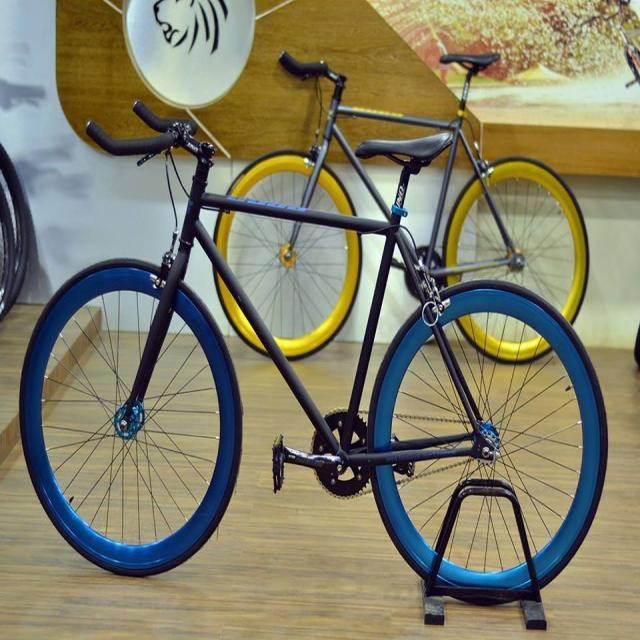Bicycle: (14, 99, 623, 637)
